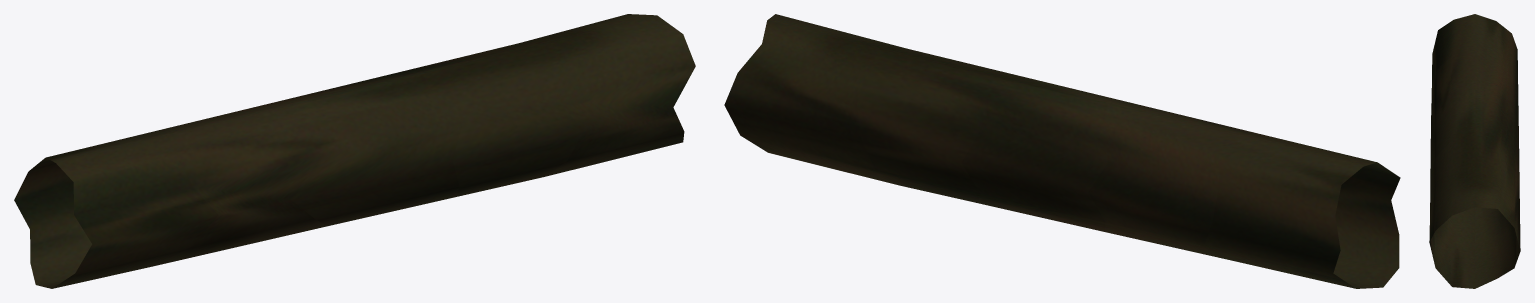
File: troncopartidoentresaltos.fbx
The picture shows the model from 3 angles, left to right: view 1: azimuth 30°, elevation 25°; view 2: azimuth 150°, elevation 25°; view 3: azimuth 270°, elevation 25°; orthographic projection. The views are drawn at different scales.
Parts seen in each view (by area): view 1: polySurface10, polySurface11, polySurface14, polySurface9, polySurface13; view 2: polySurface10, polySurface9, polySurface11, polySurface14, polySurface13; view 3: polySurface9, polySurface13, polySurface11, polySurface14, polySurface10.
Boxes of the visible parts, box(x1,y1,x2,y2) form: polySurface10: box(14, 128, 218, 288); polySurface11: box(283, 69, 462, 226); polySurface14: box(153, 100, 339, 266); polySurface9: box(520, 14, 695, 176); polySurface13: box(412, 43, 583, 196); polySurface10: box(1205, 136, 1400, 288); polySurface9: box(724, 14, 906, 184); polySurface11: box(961, 74, 1126, 231); polySurface14: box(1088, 102, 1270, 259); polySurface13: box(857, 48, 1012, 202); polySurface9: box(1429, 170, 1520, 288); polySurface13: box(1430, 136, 1519, 245); polySurface11: box(1430, 96, 1519, 218); polySurface14: box(1431, 52, 1518, 132); polySurface10: box(1431, 14, 1518, 94).
Bounding box in the file's own units: 17.92 × 3.42 × 3.39.
1 material, 1 textured.
